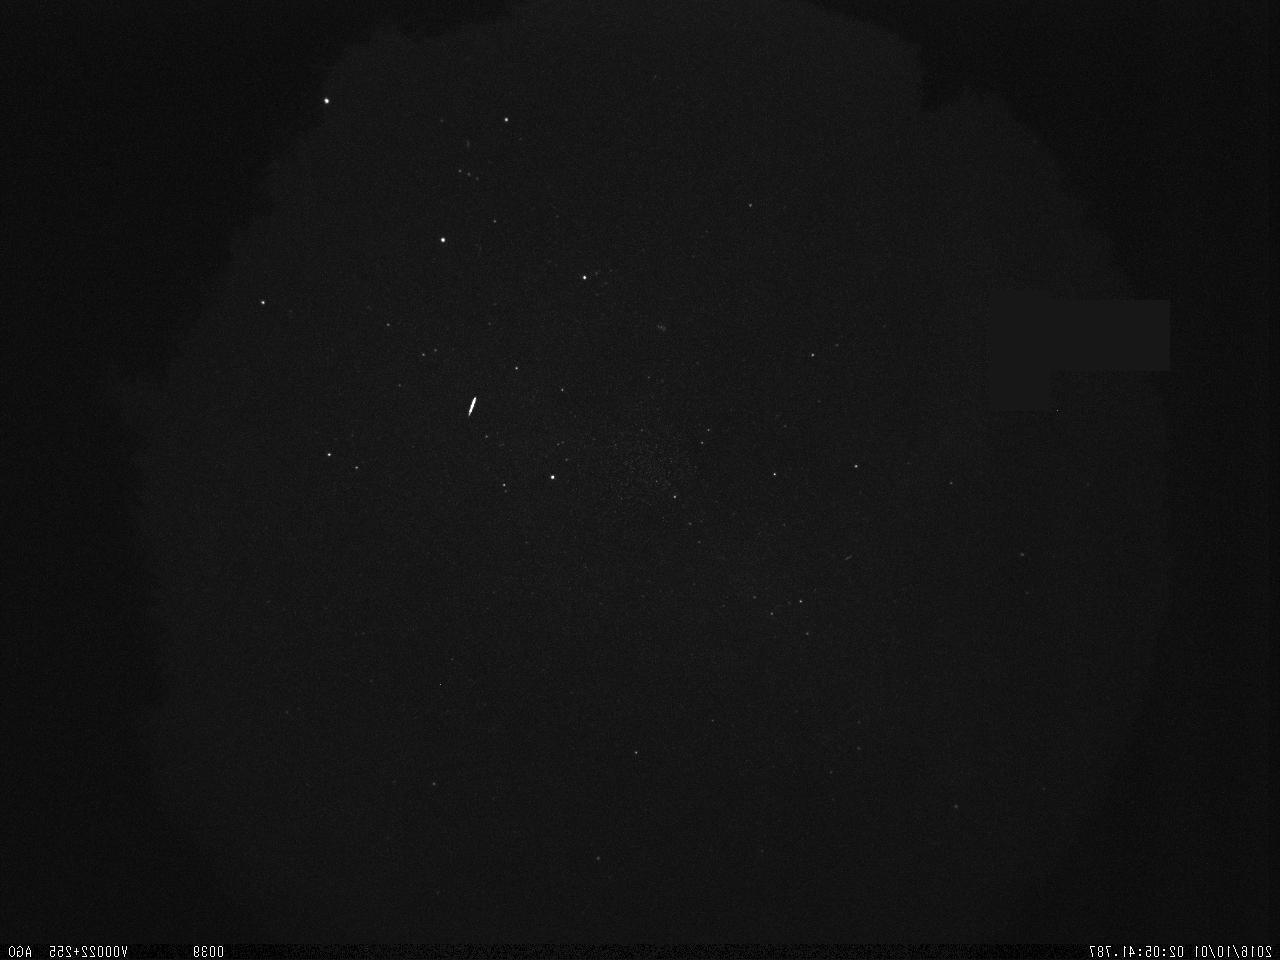meteor: (460, 391, 481, 423)
